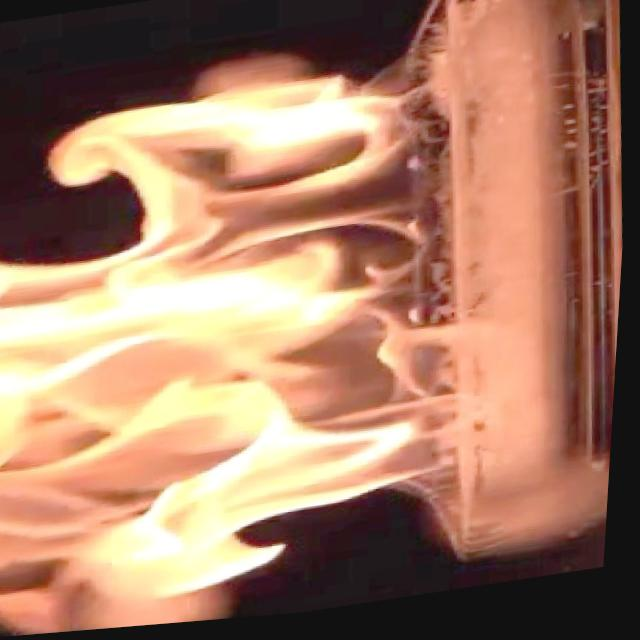helmet: (0, 49, 517, 640)
